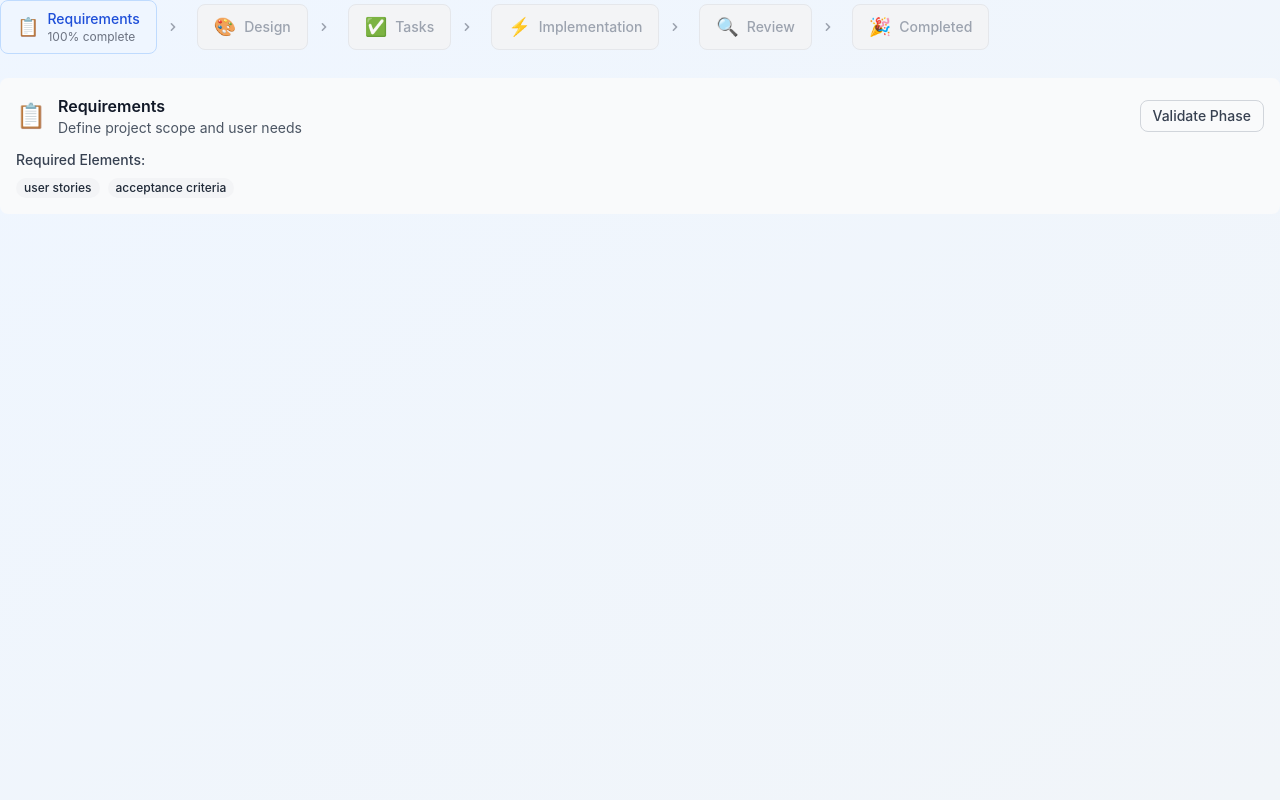
PhaseManager › should show validation results
This screenshot has width=1280, height=800.
Click the button "Validate Phase": {"x": 1202, "y": 116} [1140,100,1264,132]
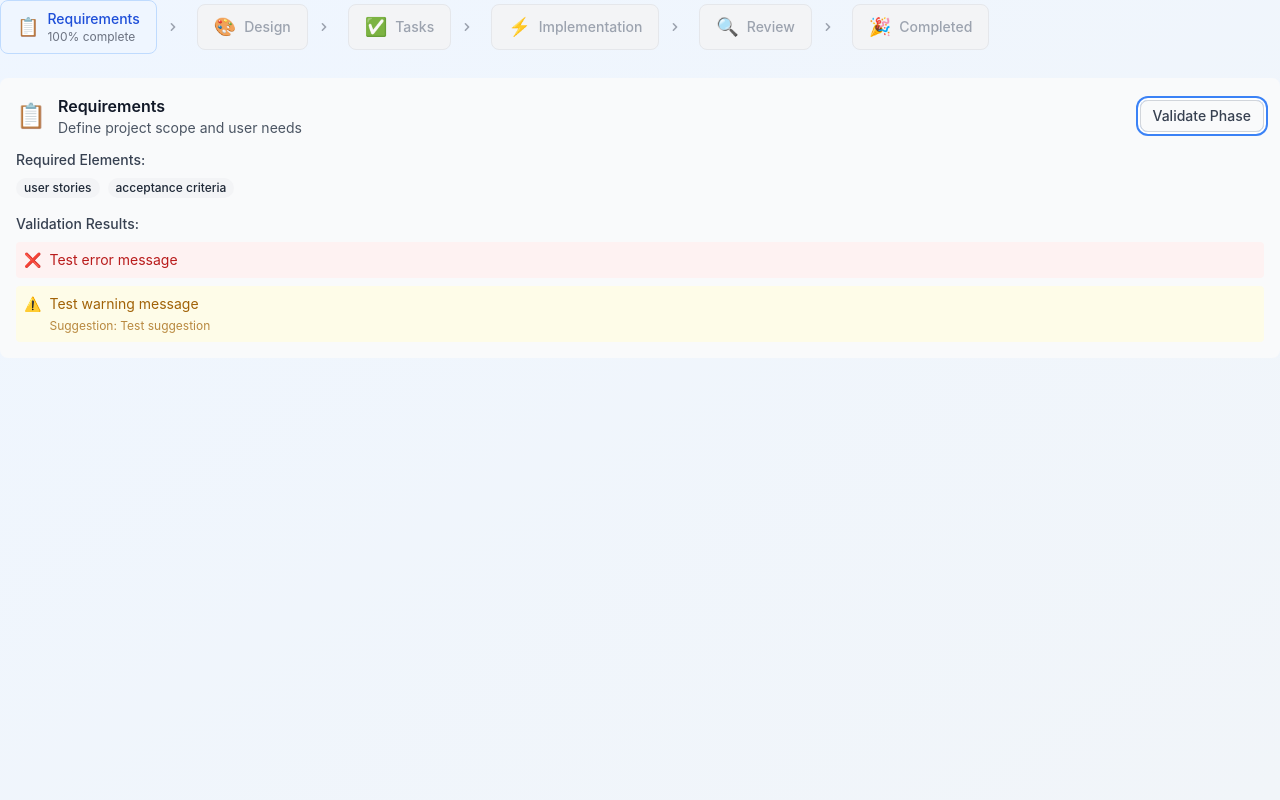
Expected: the heading "Validation Results:" is shown, [16,215,139,232]
Expected: the text "Test error message" is shown, [50,251,178,268]
Expected: the text "Test warning message" is shown, [50,295,199,312]
